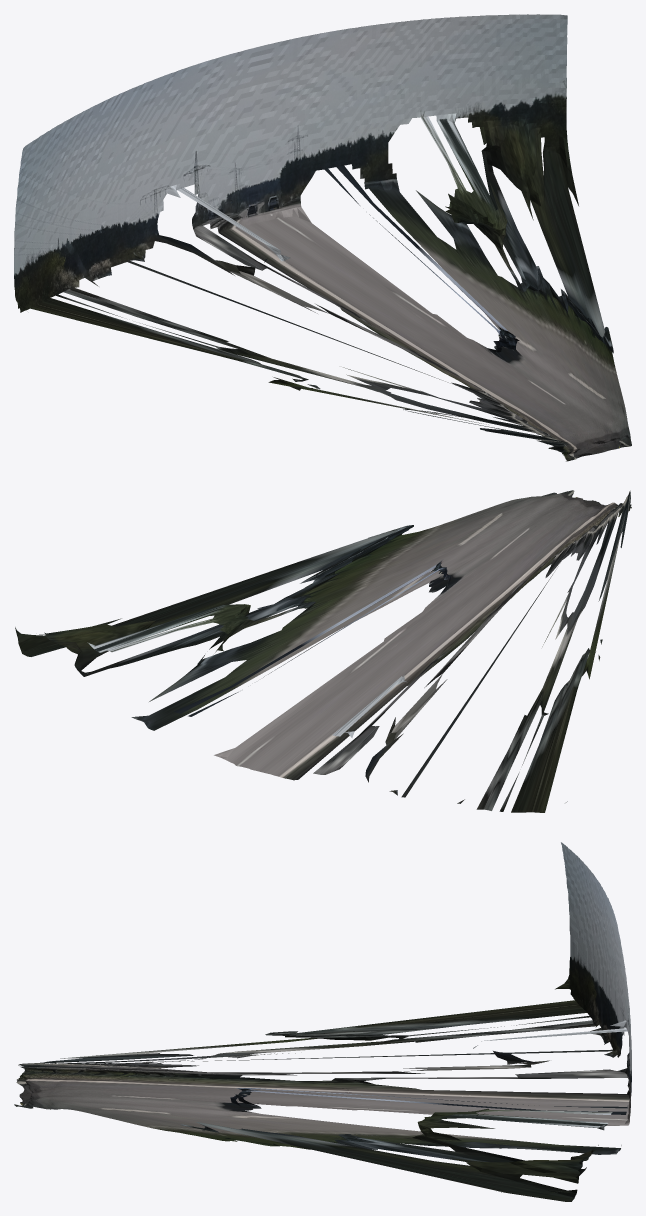
The picture shows the model from 3 angles, top to bottom: view 1: azimuth 30°, elevation 25°; view 2: azimuth 150°, elevation 25°; view 3: azimuth 270°, elevation 25°; orthographic projection. The views are drawn at different scales.
Parts seen in each view (by area): view 1: defaultobject; view 2: defaultobject; view 3: defaultobject.
Part boxes in pixels (<box>): defaultobject: <box>14,14,631,461</box>; defaultobject: <box>15,490,631,812</box>; defaultobject: <box>14,842,631,1201</box>.
Bounding box in the file's own units: 41.14 × 13.09 × 44.68.
1 material, 1 textured.
